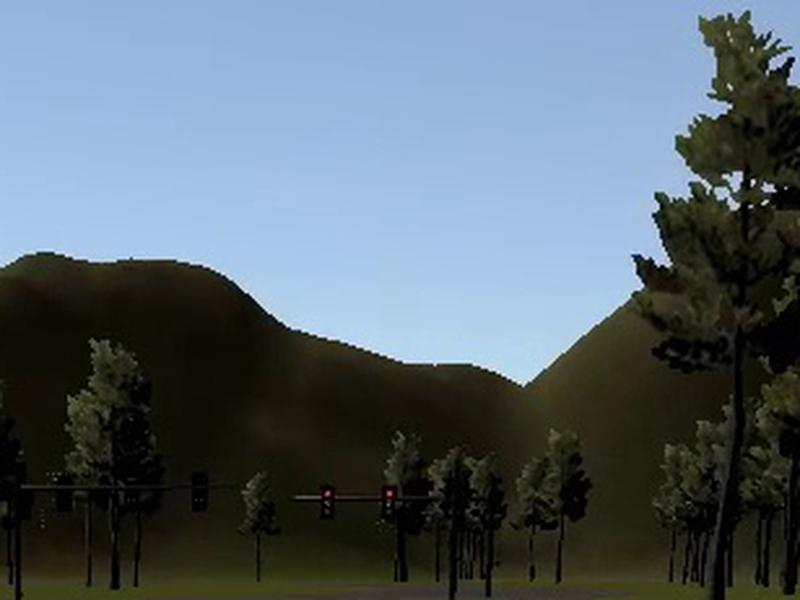Red: (382, 486, 398, 519), (320, 487, 334, 519)
